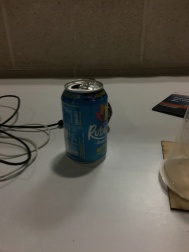can_blue: (55, 77, 118, 185)
